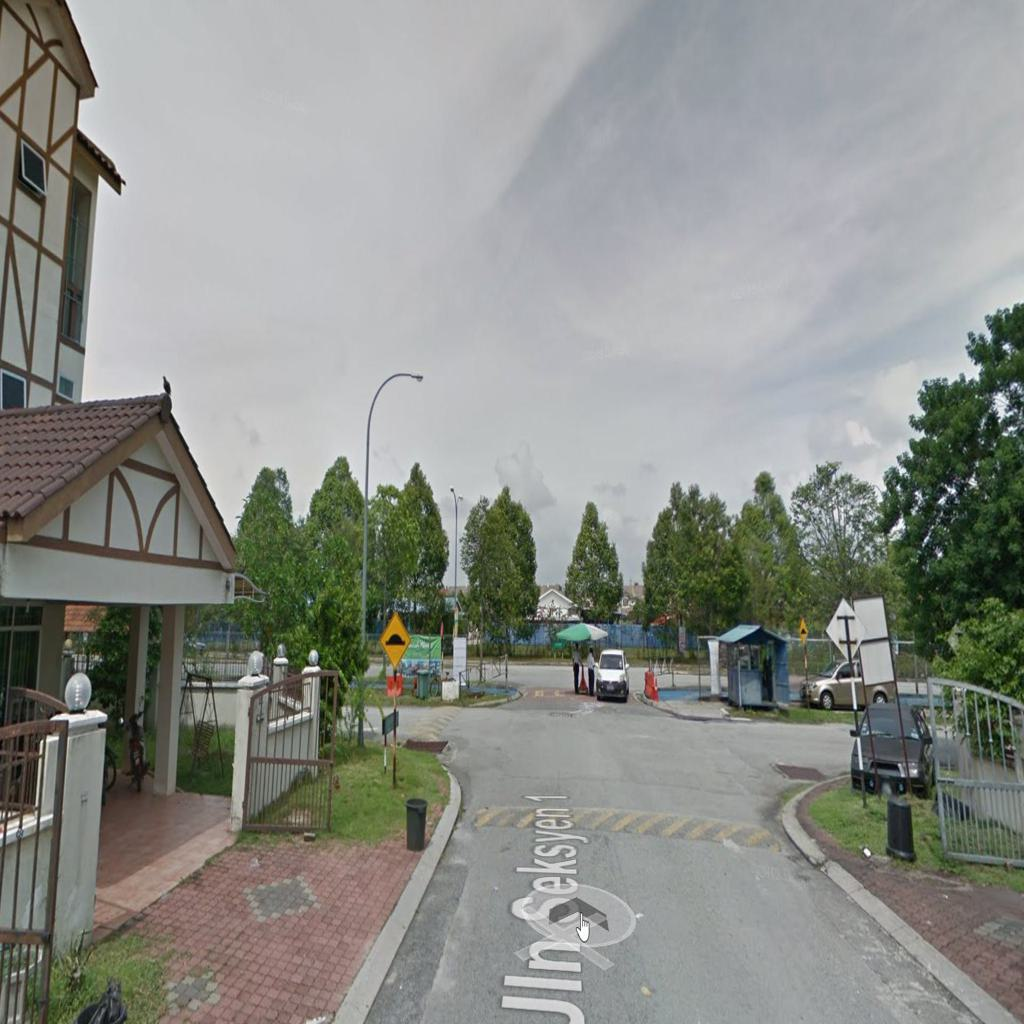Junction: (339, 652, 517, 806), (692, 690, 870, 822)
